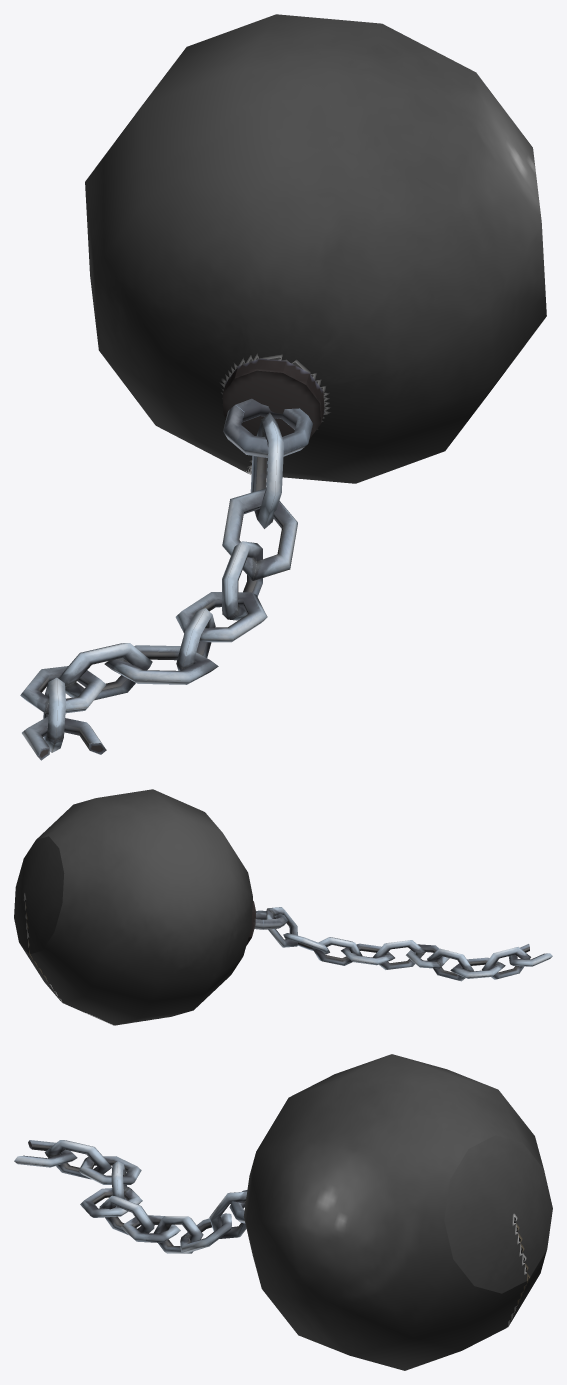
File: deco_chains_weight_ball.fbx
3 views of the same model, one above another, from view 1: azimuth 30°, elevation 25°; view 2: azimuth 150°, elevation 25°; view 3: azimuth 270°, elevation 25° (orthographic). The views are drawn at different scales.
Parts seen in each view (by area): view 1: Torus040; view 2: Torus040; view 3: Torus040.
Boxes of the visible parts, left/top/right/bottom form: Torus040: left=20, top=14, right=546, bottom=760; Torus040: left=14, top=789, right=552, bottom=1025; Torus040: left=14, top=1054, right=552, bottom=1370.
Size of the model in its own units: 65.16 by 33.55 by 60.23.
